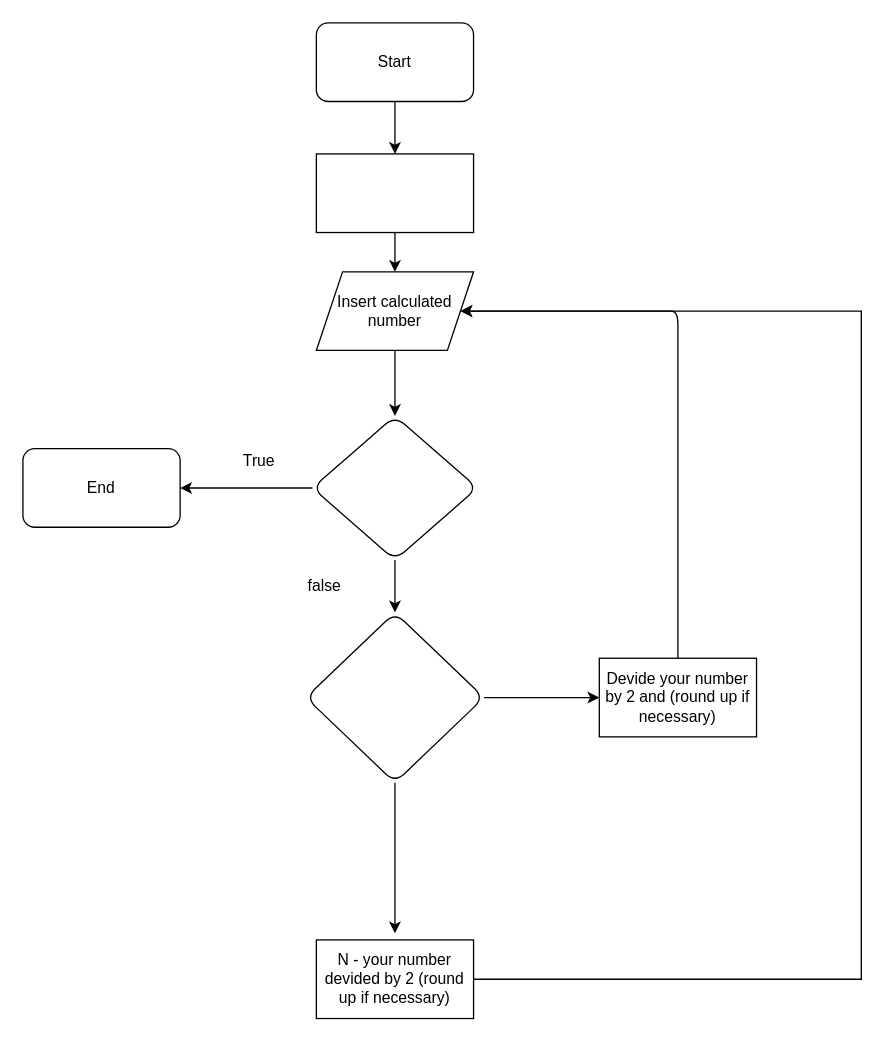
The diagram is 895 pixels wide and 1041 high, and some of its shapes have lost their labels. Each missing label, with the centre of its shape:
Calculate: N / 2 (N = highest number): the point at 394,193
If computer returns number is to high: the point at 394,697
If computer says correct: the point at 394,487
